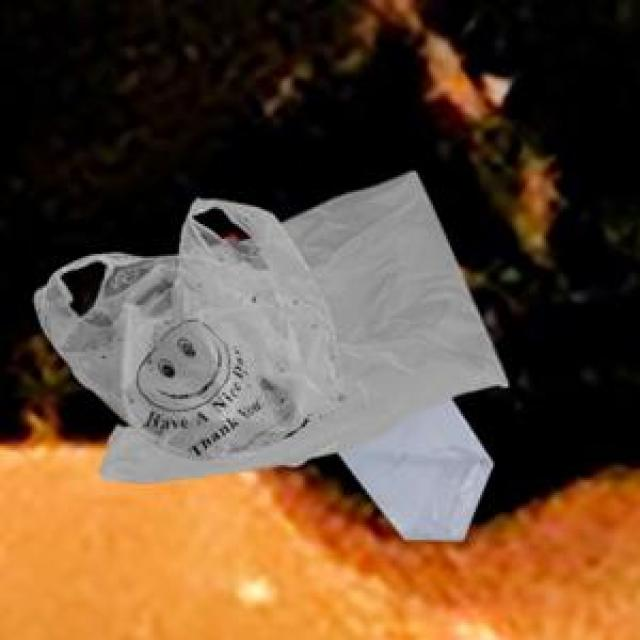plastic: (32, 159, 530, 556)
